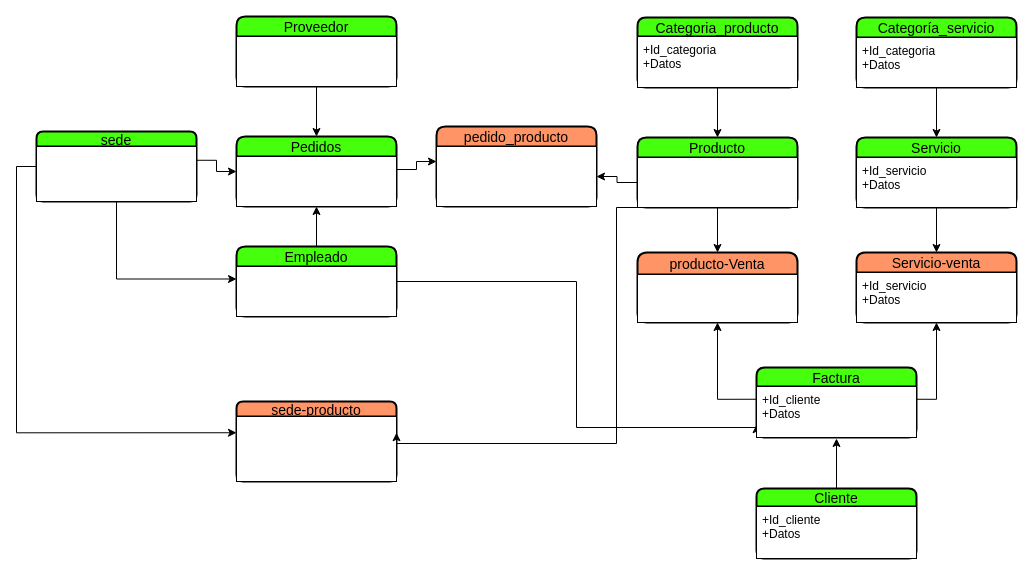
The diagram is 1033 pixels wide and 575 high, and some of its shapes have lost their labels. The centre of each missing label's shape, as x and y in pixels:
"+1 +2036 stock" belongs at [316,449].
"+id_empleado +Datos" belongs at [316,291].
"+id_pedido +id_producto +Datos" belongs at [516,176].
"+id_pedidos +Datos" belongs at [316,181].
"+id_proveedor +Datos" belongs at [316,61].
"+id_sede +Datos" belongs at [116,174].
"+Id_stock +Datos" belongs at [717,182].
"+Id_venta +Datos" belongs at [717,298].
